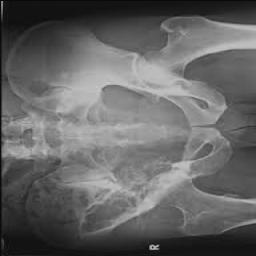cancer: (45, 165, 187, 235)
